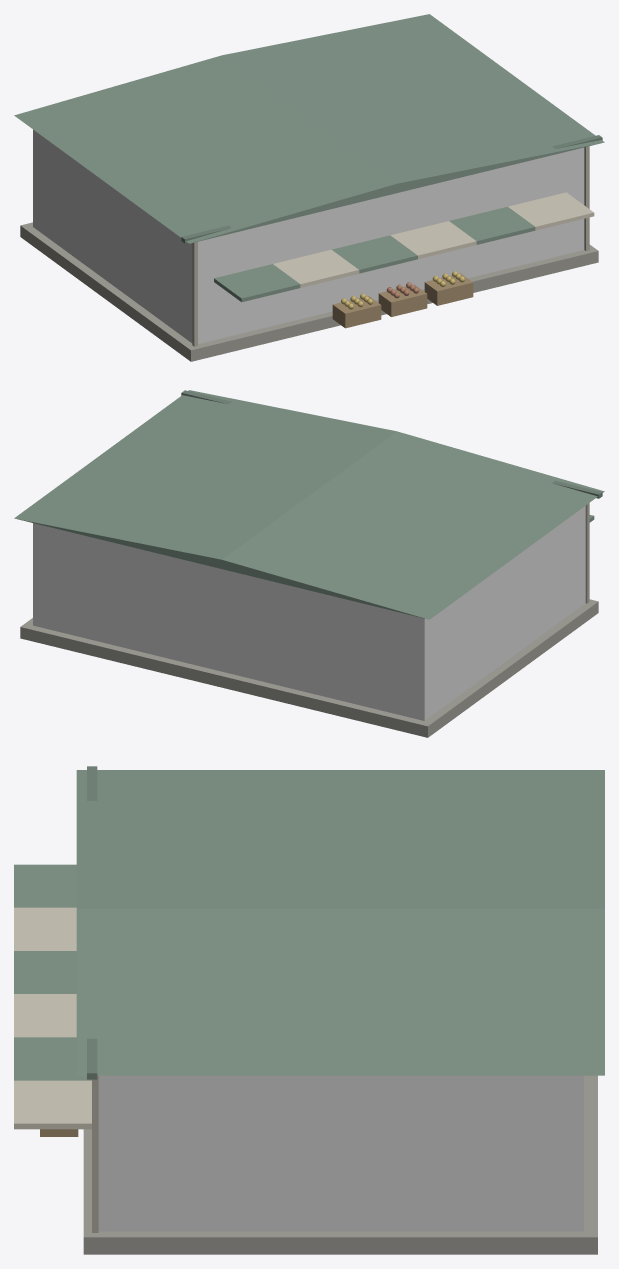
The picture shows the model from 3 angles, top to bottom: view 1: azimuth 30°, elevation 25°; view 2: azimuth 150°, elevation 25°; view 3: azimuth 270°, elevation 25°; orthographic projection. The views are drawn at different scales.
Parts seen in each view (by area): view 1: Visual; view 2: Visual; view 3: Visual.
Part boxes in pixels (bbox=[...]): Visual: bbox=[14, 14, 604, 361]; Visual: bbox=[14, 390, 604, 737]; Visual: bbox=[14, 766, 604, 1254].
Bounding box in the file's own units: 41.8 × 12.45 × 34.
